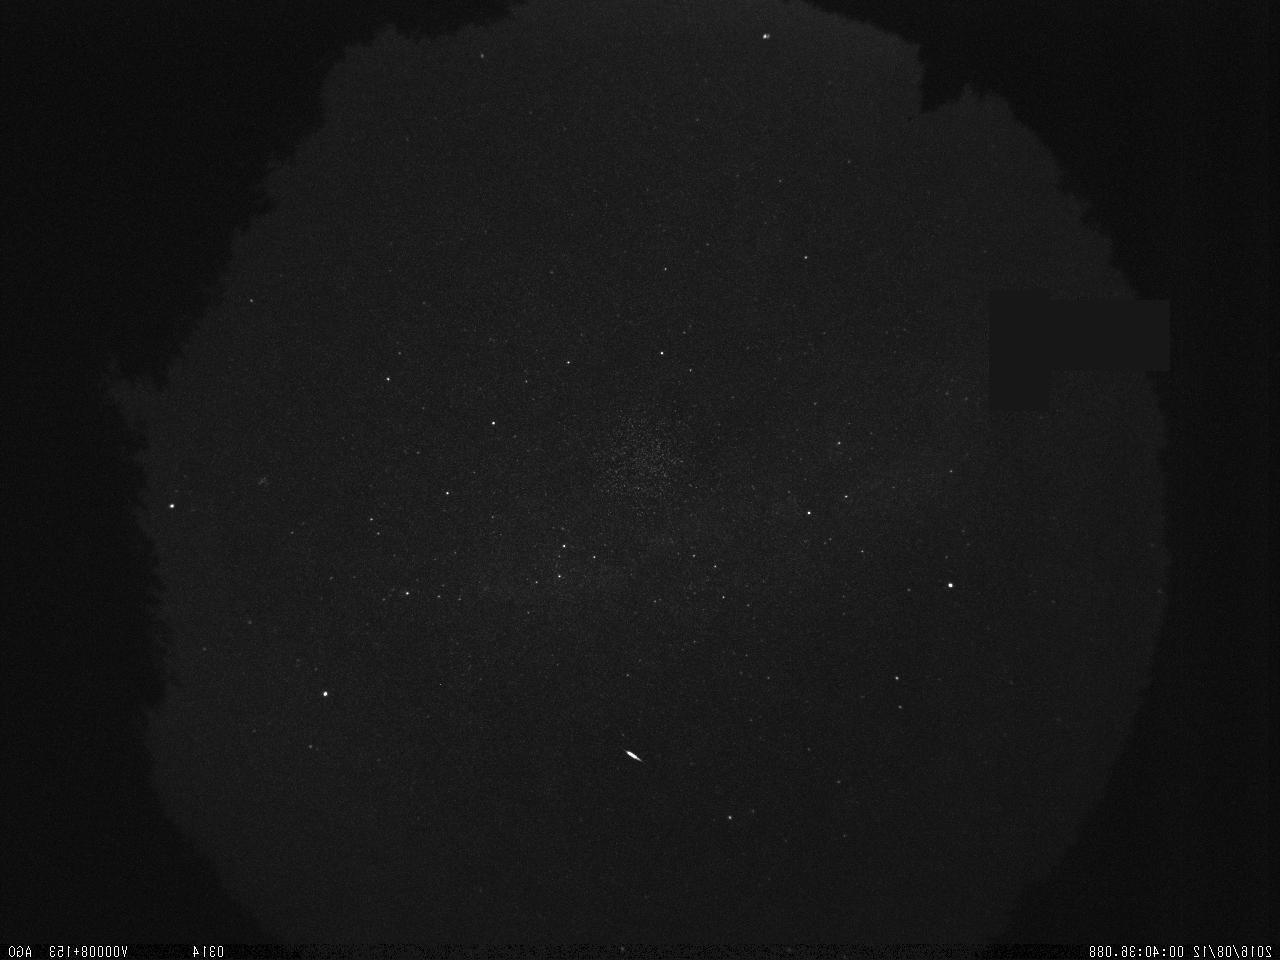meteor: (610, 744, 655, 769)
